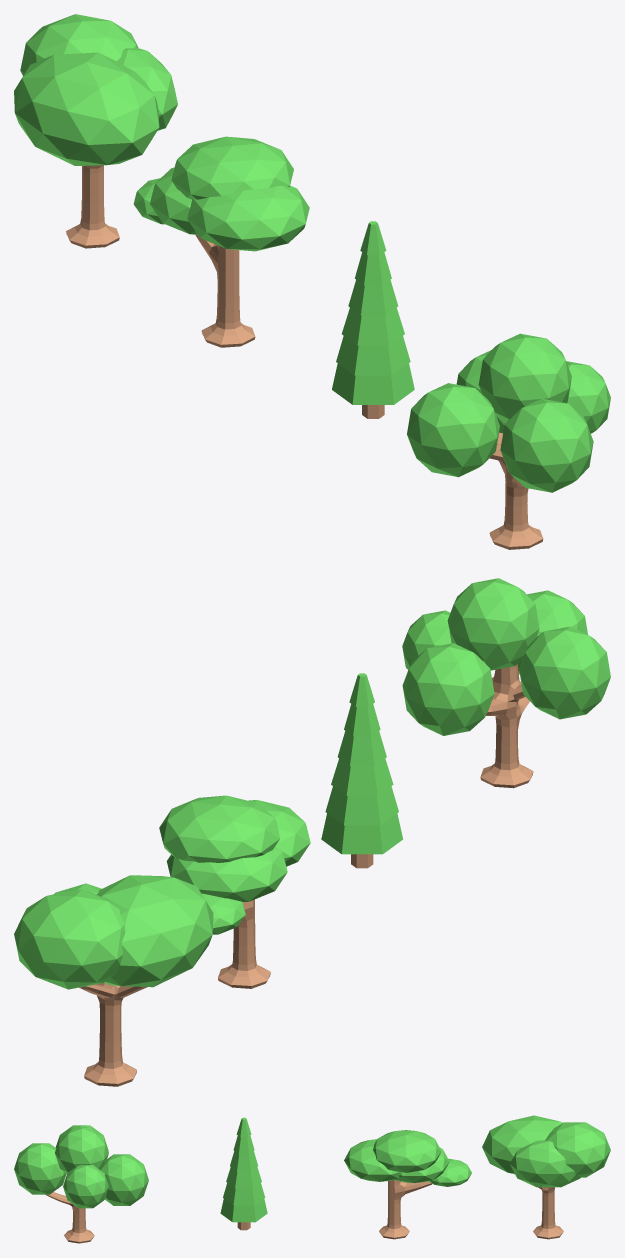
File: tree.fbx
The picture shows the model from 3 angles, top to bottom: view 1: azimuth 30°, elevation 25°; view 2: azimuth 150°, elevation 25°; view 3: azimuth 270°, elevation 25°; orthographic projection. The views are drawn at different scales.
Visible parts, largest first — view 1: Icosphere.009, Cylinder, Icosphere.004, Icosphere.003, Icosphere.005, Icosphere, Icosphere.000, Icosphere.010, Cube.001, Cube.002, Cube, Icosphere.001 (+2 smaller); view 2: Icosphere.009, Cylinder, Icosphere.010, Icosphere.002, Icosphere.003, Icosphere, Icosphere.000, Icosphere.006, Cube, Cube.002, Cube.001, Icosphere.004 (+3 smaller); view 3: Cylinder, Icosphere.010, Icosphere, Icosphere.009, Icosphere.008, Icosphere.004, Icosphere.002, Icosphere.000, Icosphere.001, Icosphere.005, Cube.001, Cube.002 (+3 smaller).
Boxes of the visible parts, box(x1,y1,x2,y2) form: Icosphere.009: box(14, 52, 159, 165); Cylinder: box(332, 221, 414, 404); Icosphere.004: box(500, 398, 593, 492); Icosphere.003: box(407, 383, 499, 477); Icosphere.005: box(187, 185, 309, 251); Icosphere: box(171, 136, 293, 199); Icosphere.000: box(478, 333, 571, 422); Icosphere.010: box(20, 14, 138, 75); Cube.001: box(195, 234, 255, 347); Cube.002: box(66, 165, 119, 248); Cube: box(489, 423, 543, 549); Icosphere.001: box(566, 361, 610, 433); Icosphere.009: box(96, 875, 213, 987); Cylinder: box(321, 673, 403, 854); Icosphere.010: box(14, 889, 125, 989); Icosphere.002: box(402, 643, 494, 735); Icosphere.003: box(519, 626, 610, 719); Icosphere: box(159, 795, 279, 862); Icosphere.000: box(447, 578, 539, 670); Icosphere.006: box(166, 848, 287, 902); Cube: box(480, 664, 533, 788); Cube.002: box(79, 983, 147, 1086); Cube.001: box(218, 899, 270, 988); Icosphere.004: box(518, 590, 587, 674); Cylinder: box(220, 1117, 267, 1222); Icosphere.010: box(545, 1122, 610, 1177); Icosphere: box(373, 1130, 441, 1172); Icosphere.009: box(482, 1115, 562, 1174); Icosphere.008: box(510, 1140, 580, 1187); Icosphere.004: box(14, 1143, 66, 1194); Icosphere.002: box(100, 1154, 148, 1205); Icosphere.000: box(55, 1127, 108, 1173); Icosphere.001: box(63, 1165, 108, 1208); Icosphere.005: box(344, 1139, 400, 1181); Cube.001: box(379, 1179, 432, 1239); Cube.002: box(533, 1187, 563, 1239).
Size of the model in its own units: 4315 by 4487 by 20202.
